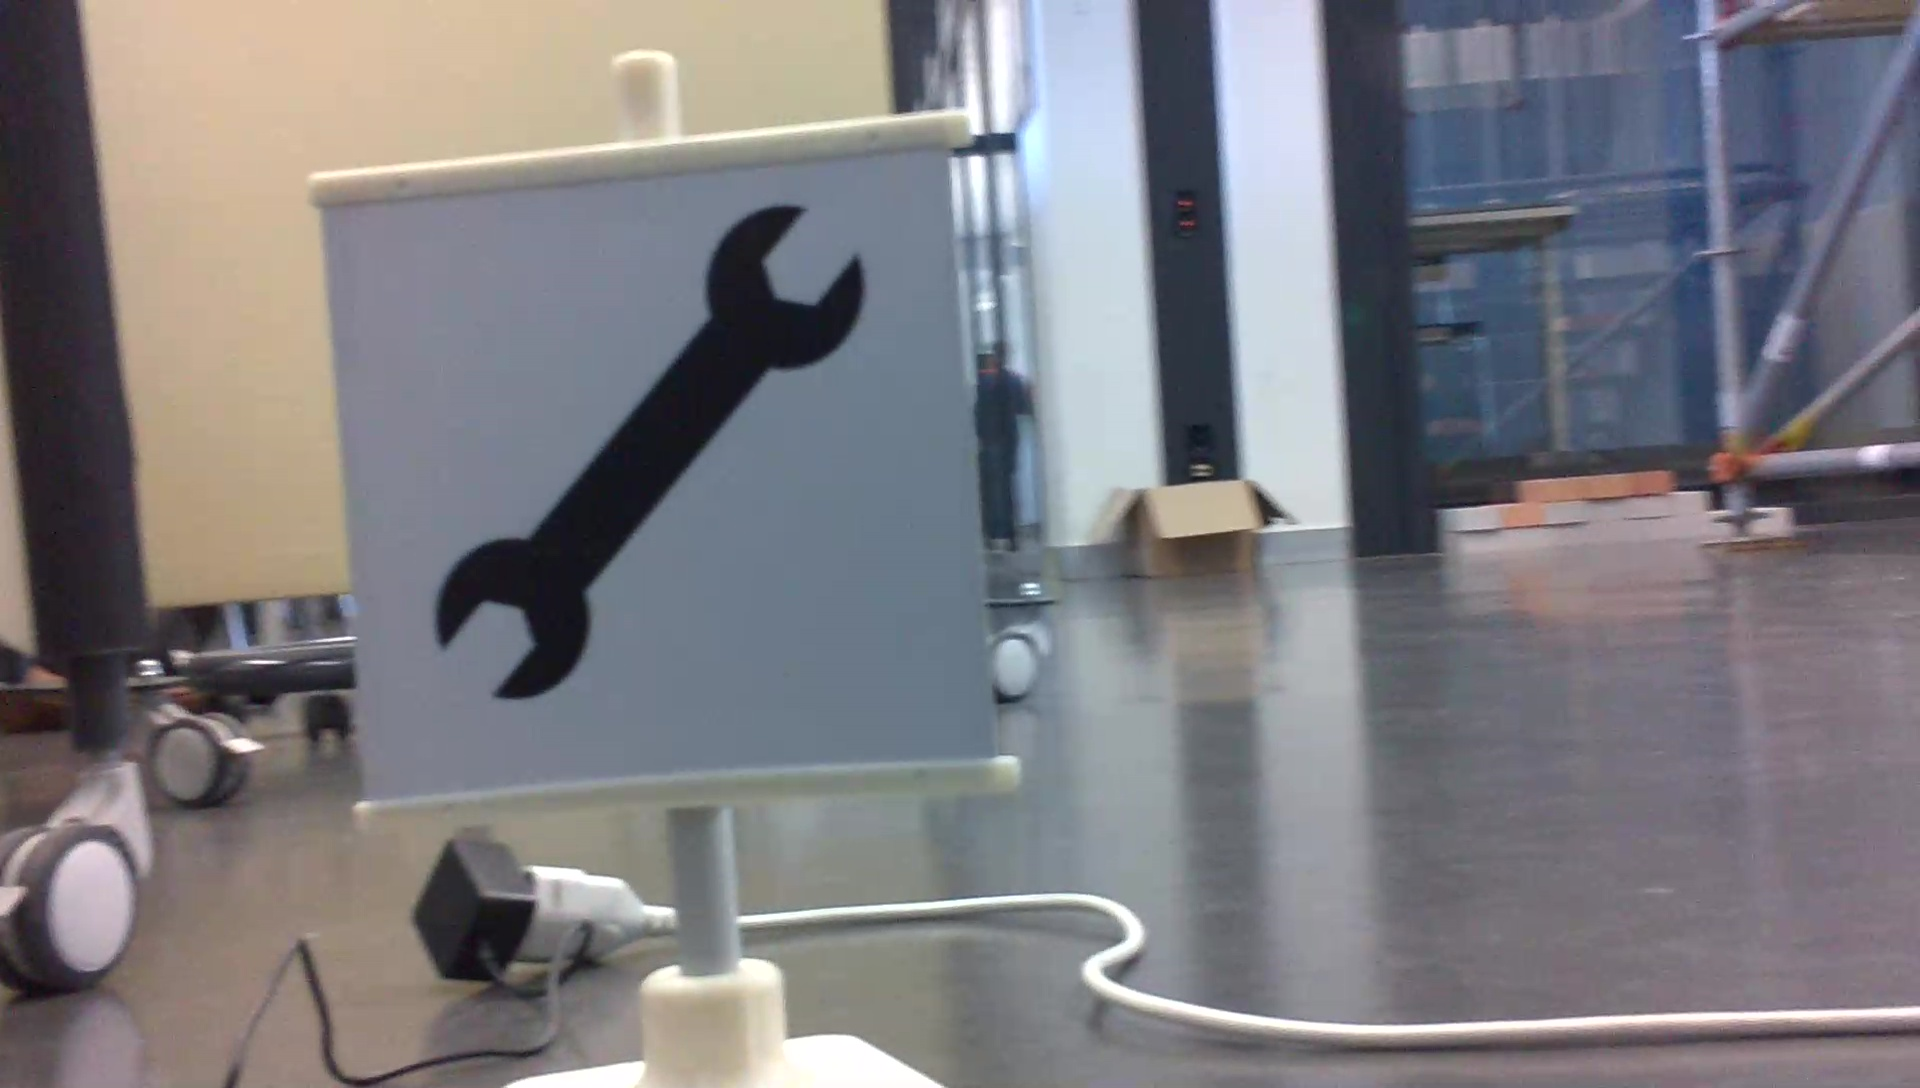wrench: (422, 193, 874, 710)
